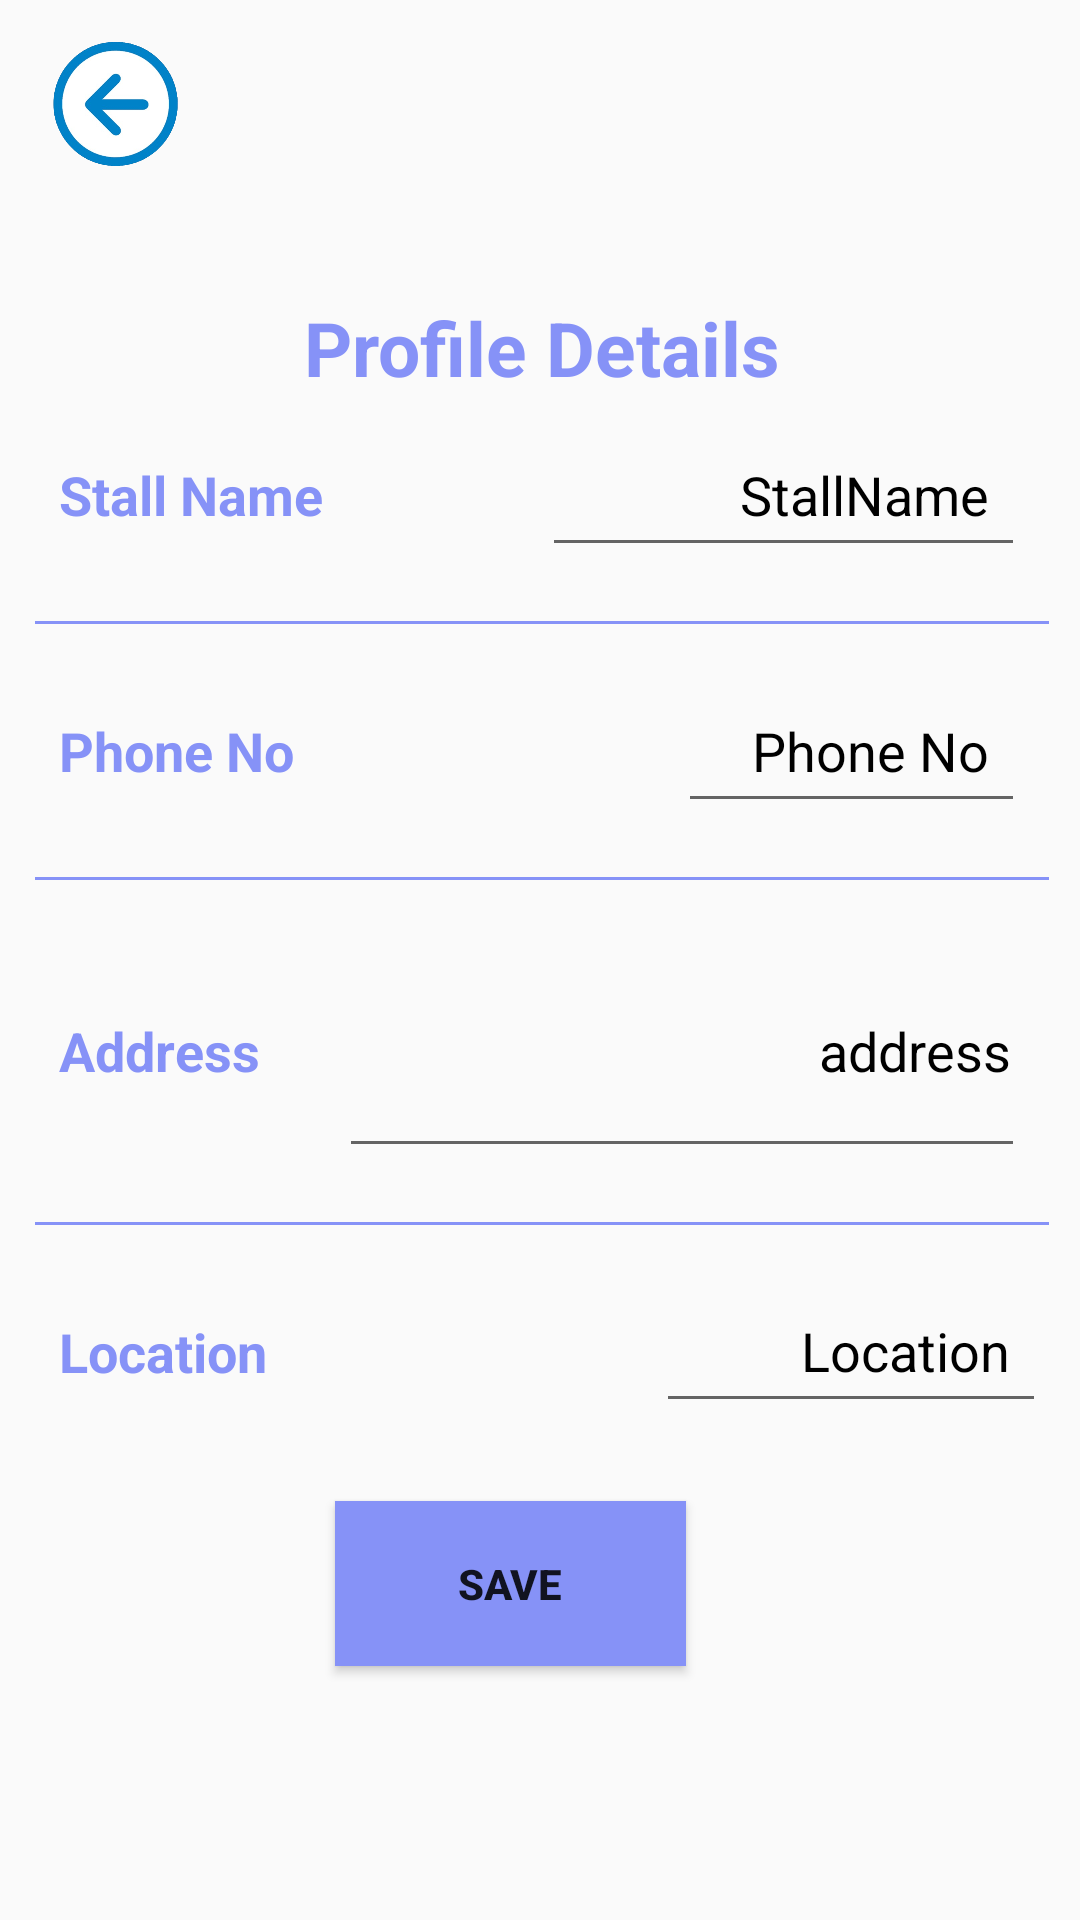

Where to tap for icons on this 1080 x 1920 app screen, as (x=x, y=y):
backbuttonn: (x=115, y=104)
